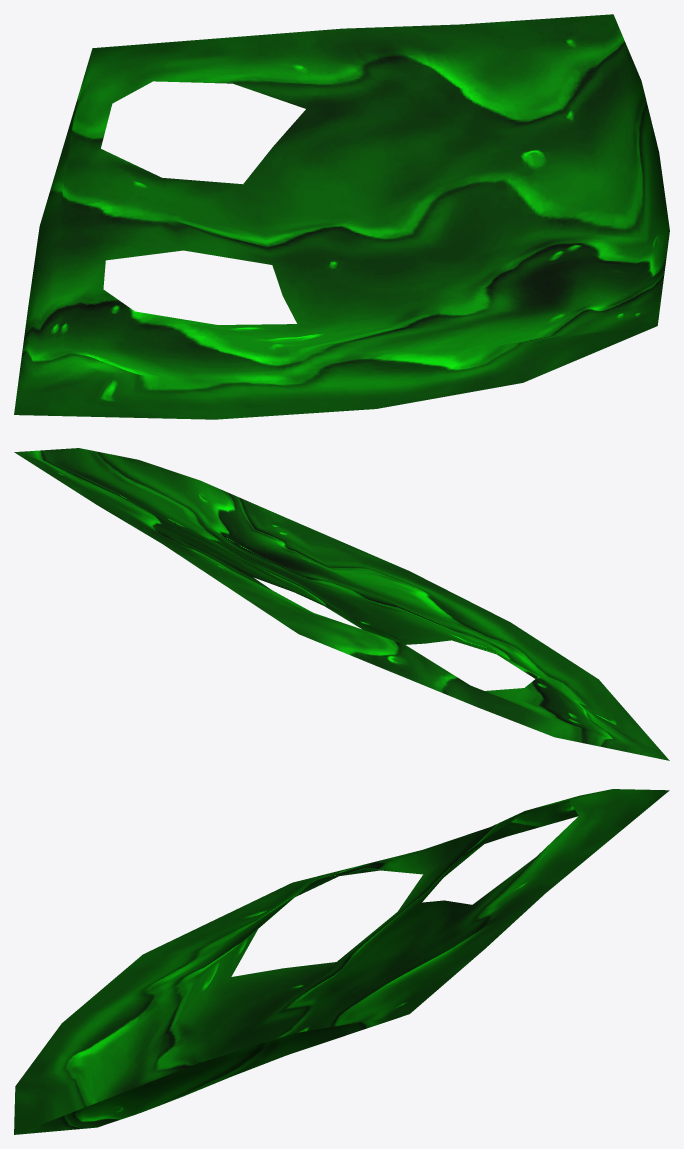
Rendered from TROLLHOLE02_SLIMESLIDE01.fbx.
3 views of the same model, one above another, from view 1: azimuth 30°, elevation 25°; view 2: azimuth 150°, elevation 25°; view 3: azimuth 270°, elevation 25° (orthographic). The views are drawn at different scales.
Parts seen in each view (by area): view 1: TROLLHOLE02_SLIMESLIDE01; view 2: TROLLHOLE02_SLIMESLIDE01; view 3: TROLLHOLE02_SLIMESLIDE01.
Boxes of the visible parts, bbox=[...] form: TROLLHOLE02_SLIMESLIDE01: bbox=[14, 14, 669, 419]; TROLLHOLE02_SLIMESLIDE01: bbox=[14, 448, 669, 760]; TROLLHOLE02_SLIMESLIDE01: bbox=[14, 789, 669, 1134].
Bounding box in the file's own units: 155143 × 47156 × 113900.
1 material, 1 textured.
